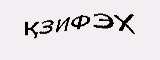П: (71, 20, 81, 42), (59, 19, 68, 38)
Х: (92, 23, 109, 48)
Ч: (39, 15, 59, 39), (81, 21, 91, 45)
